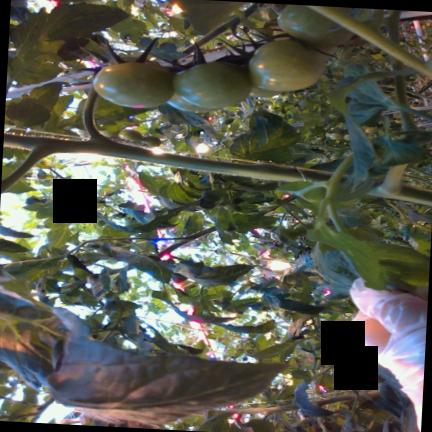6kp_peduncle: (63, 84, 136, 159)
6kp_petiole: (3, 132, 82, 186), (367, 162, 429, 204)
MainStem: (5, 134, 330, 183), (159, 225, 217, 256), (367, 181, 432, 205), (311, 394, 355, 404), (226, 406, 290, 412)
tomato: (249, 39, 325, 91), (173, 61, 252, 108), (93, 62, 174, 107), (278, 4, 351, 47), (167, 92, 218, 111), (250, 85, 282, 96), (118, 129, 141, 141), (140, 135, 161, 146), (99, 130, 117, 136), (329, 132, 343, 139), (364, 126, 375, 133), (251, 259, 259, 265), (255, 265, 264, 270), (343, 134, 350, 139), (247, 255, 255, 259), (362, 125, 369, 129)
